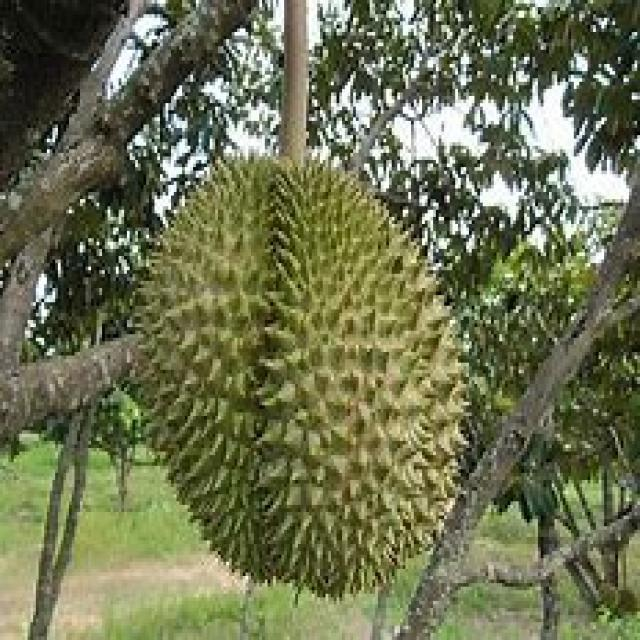UNRIPE: (128, 152, 468, 592)
